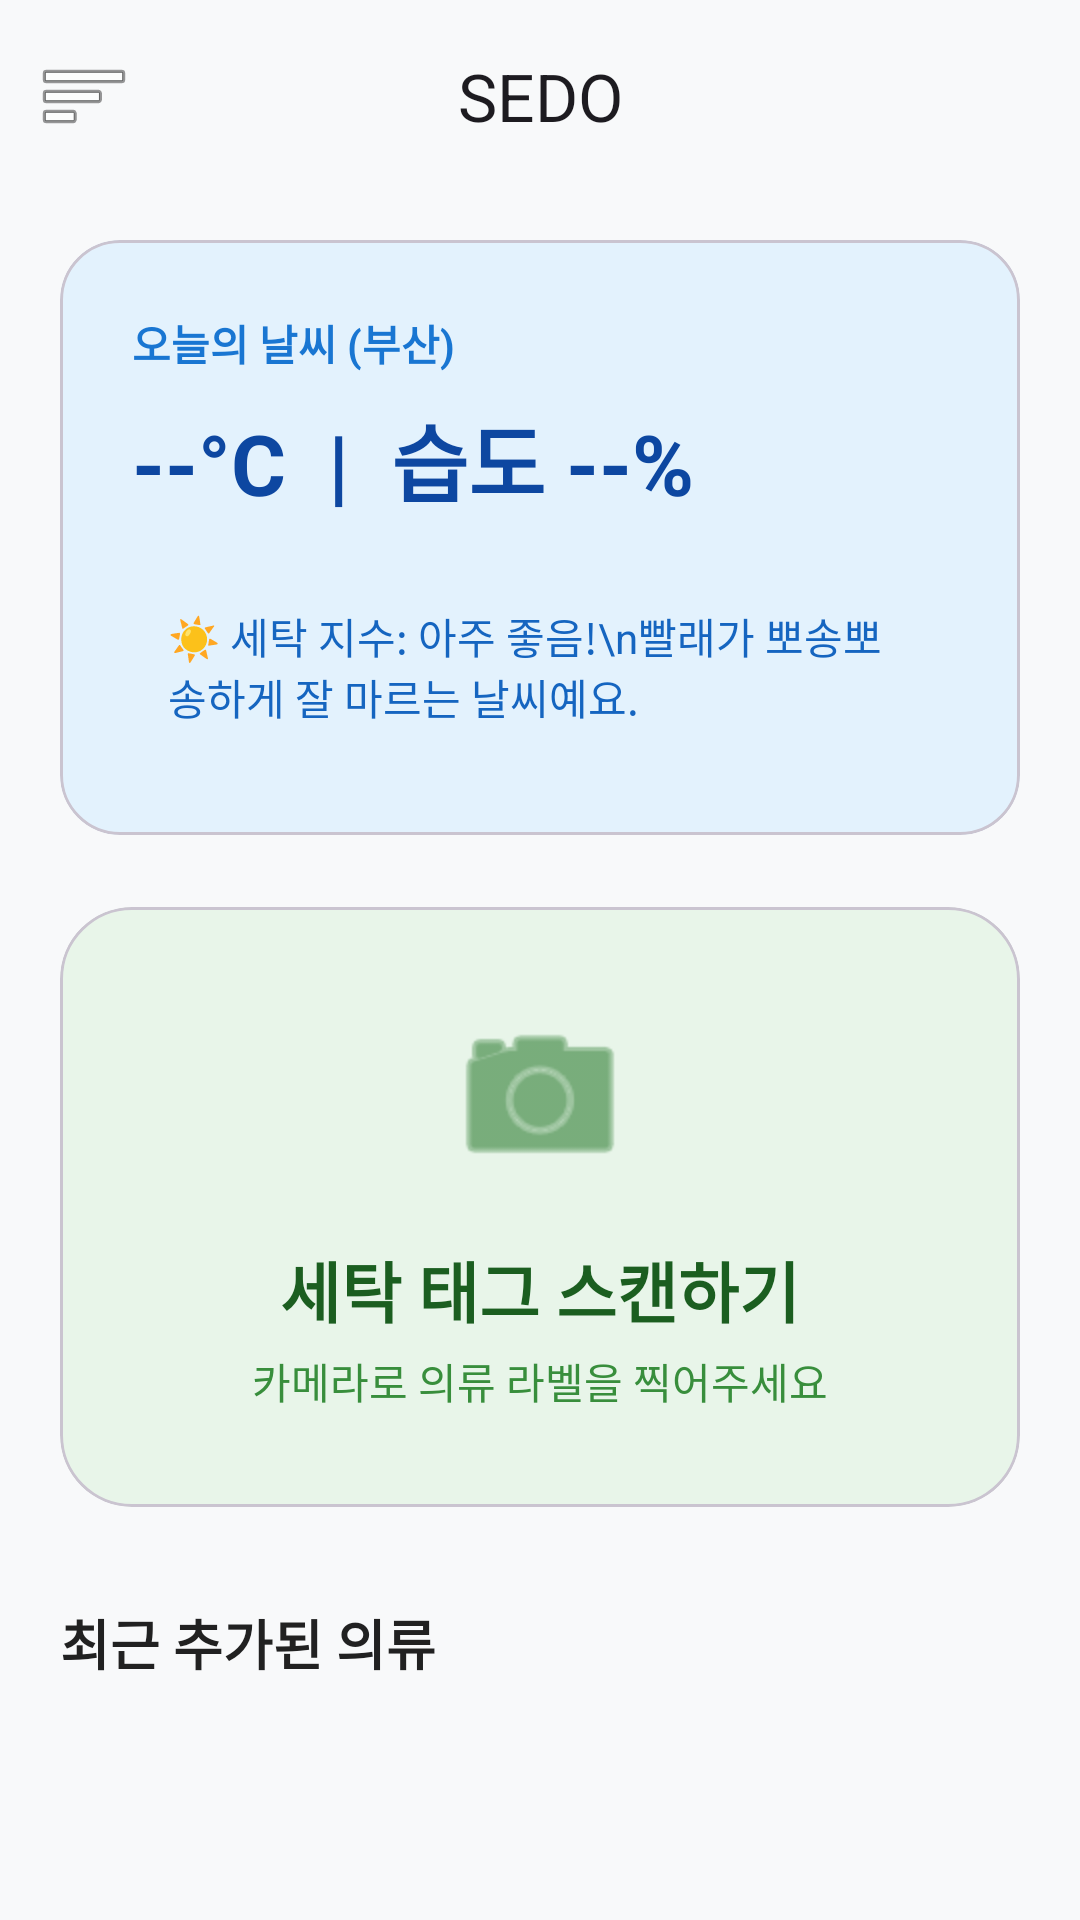

Named icons in this screenshot (1080×1920) and their centers, (x,y):
camera: (540,1094)
